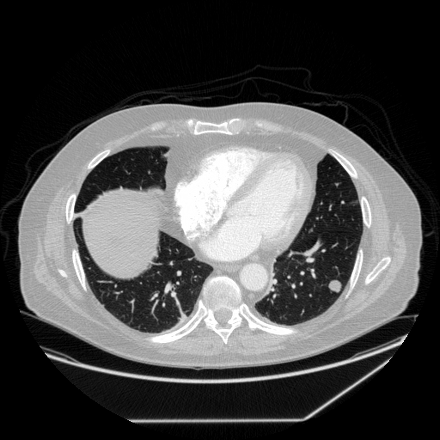nodule: (329, 279, 341, 291)
